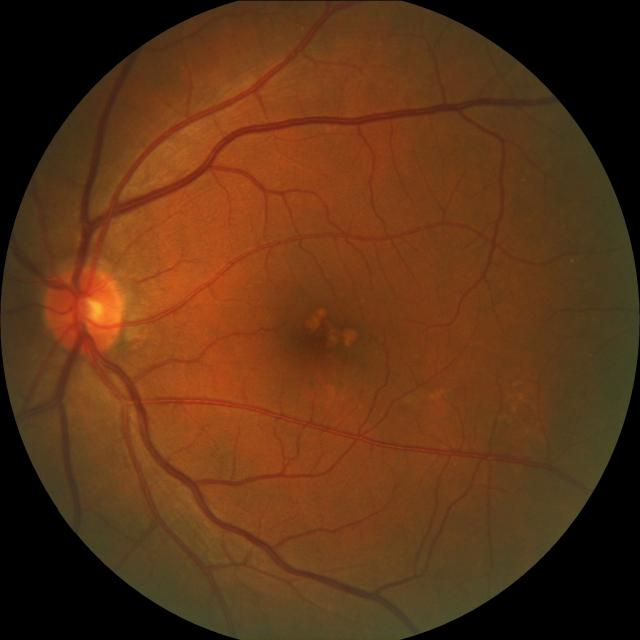OC: (59, 283, 109, 333)
OD: (46, 262, 126, 354)
